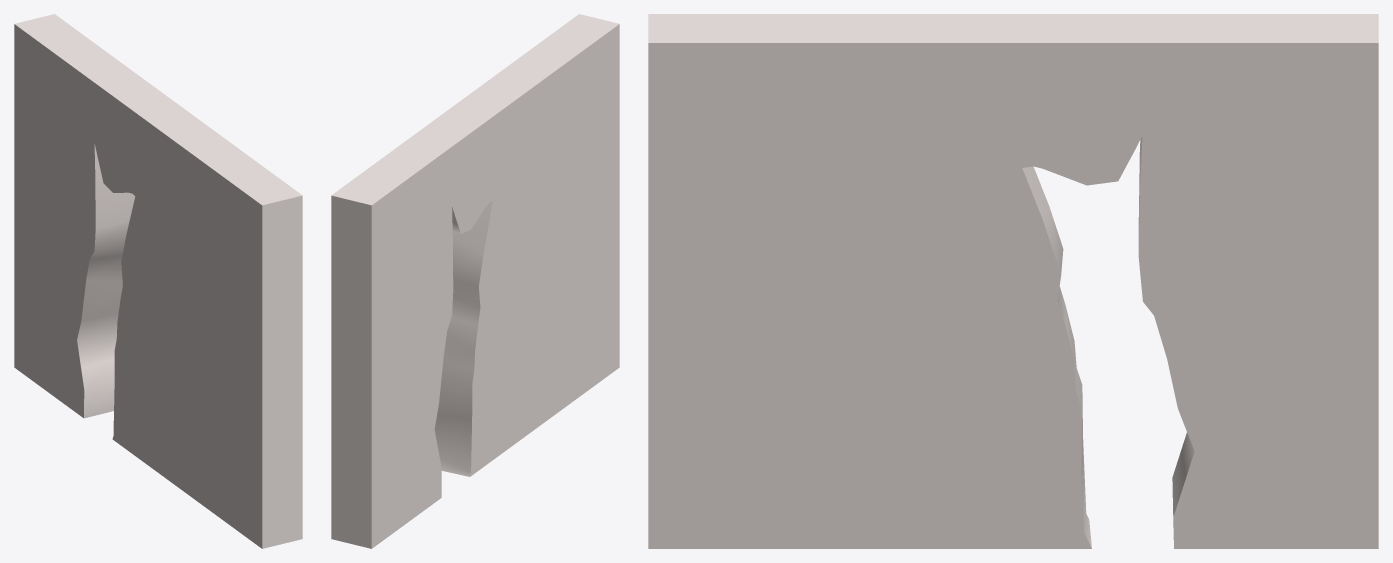
File: gap03.fbx
The picture shows the model from 3 angles, left to right: view 1: azimuth 30°, elevation 25°; view 2: azimuth 150°, elevation 25°; view 3: azimuth 270°, elevation 25°; orthographic projection. The views are drawn at different scales.
Parts seen in each view (by area): view 1: Box039; view 2: Box039; view 3: Box039.
Part boxes in pixels (x1,y1,x2,y2): Box039: [14, 14, 302, 548]; Box039: [331, 14, 619, 548]; Box039: [648, 14, 1378, 548].
Size of the model in its own units: 33.24 by 269 by 352.
Materials: 1 (1 with a texture image).
